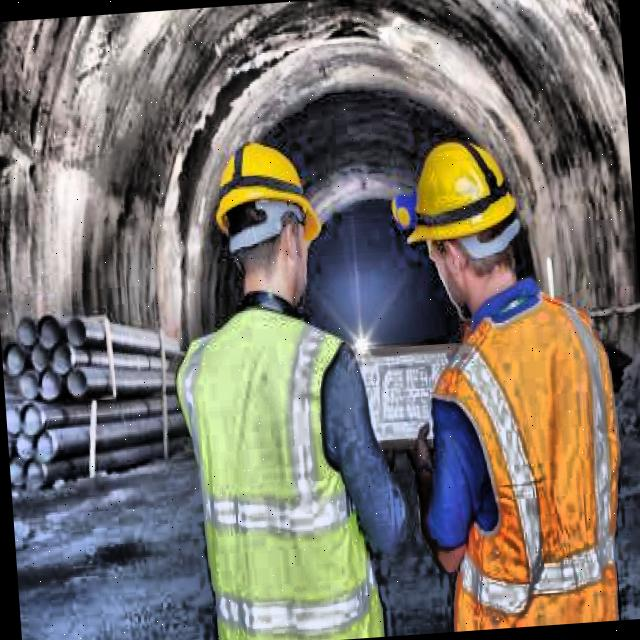helmet: (396, 123, 530, 324), (198, 128, 332, 324)
